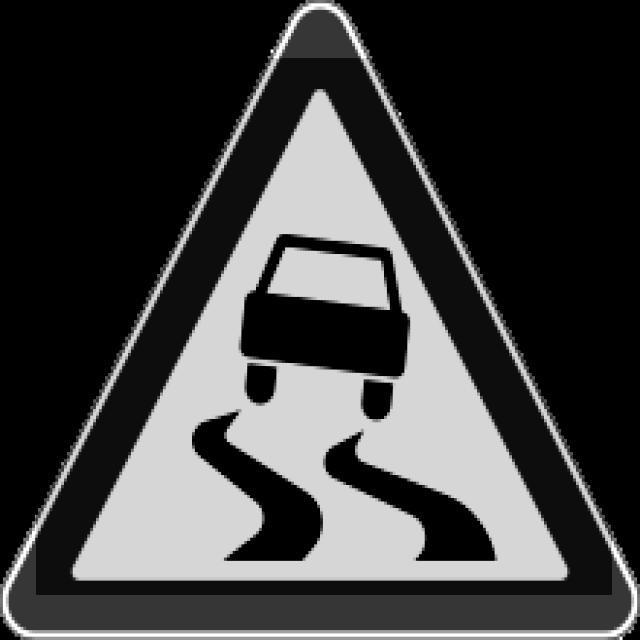slippery road: (16, 15, 624, 629)
